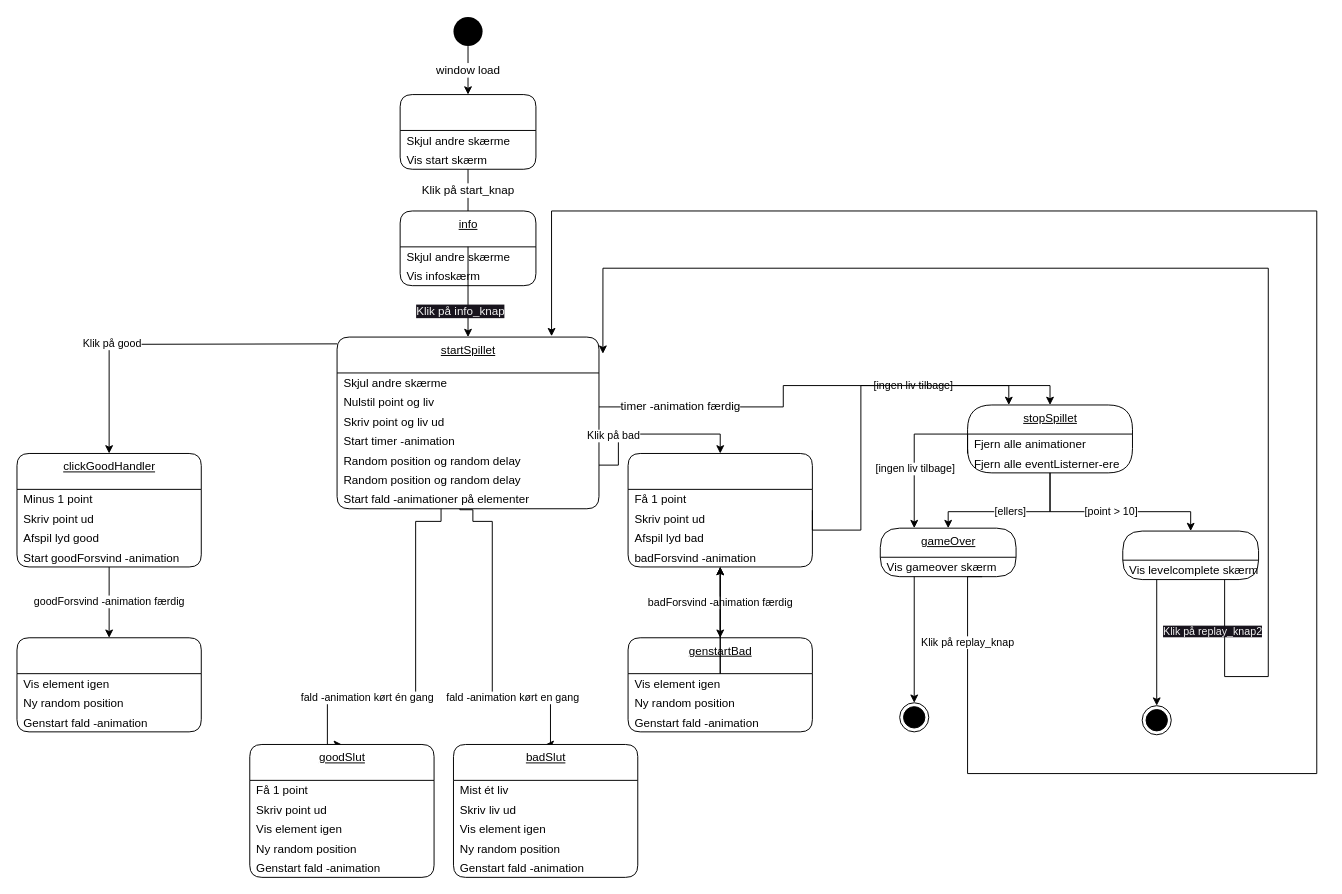
Some shapes in this 1342 by 894 pixel diagram are drawn without their labels. Each missing label, with the box of its shape:
badClickHandler: (627, 453, 812, 567)
genstartGood: (16, 637, 201, 732)
sidenVises: (399, 94, 536, 169)
win: (1122, 530, 1259, 580)
